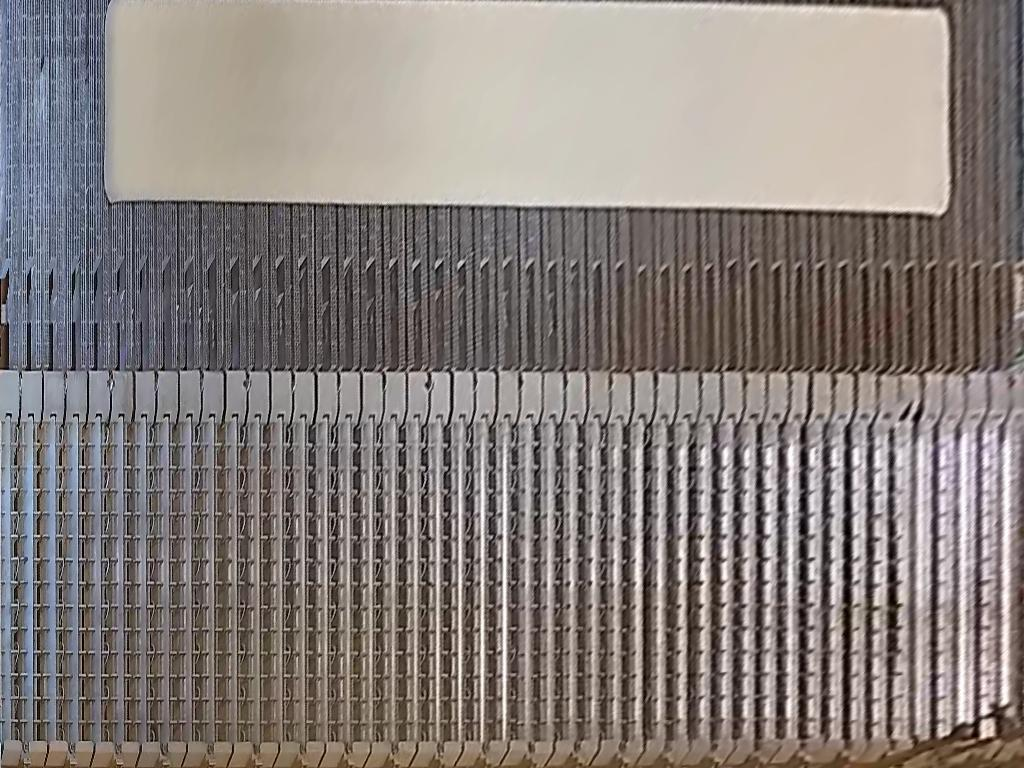steel: (102, 1, 951, 215)
